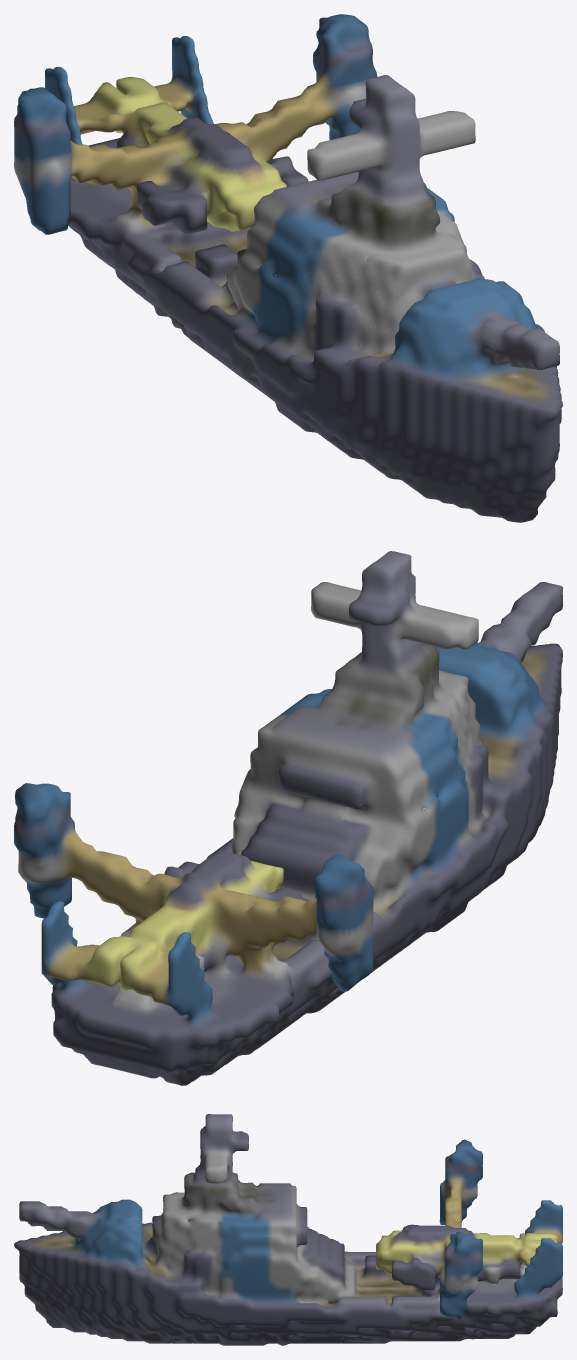
Rendered from cdest.glb.
The picture shows the model from 3 angles, top to bottom: view 1: azimuth 30°, elevation 25°; view 2: azimuth 150°, elevation 25°; view 3: azimuth 270°, elevation 25°; orthographic projection. The views are drawn at different scales.
Parts seen in each view (by area): view 1: cdest; view 2: cdest; view 3: cdest.
Boxes of the visible parts, x1,y1,x2,y2 form: cdest: (14, 14, 562, 522); cdest: (14, 551, 562, 1085); cdest: (14, 1114, 562, 1345).
Size of the model in its own units: 3.79 by 3.57 by 8.51.
